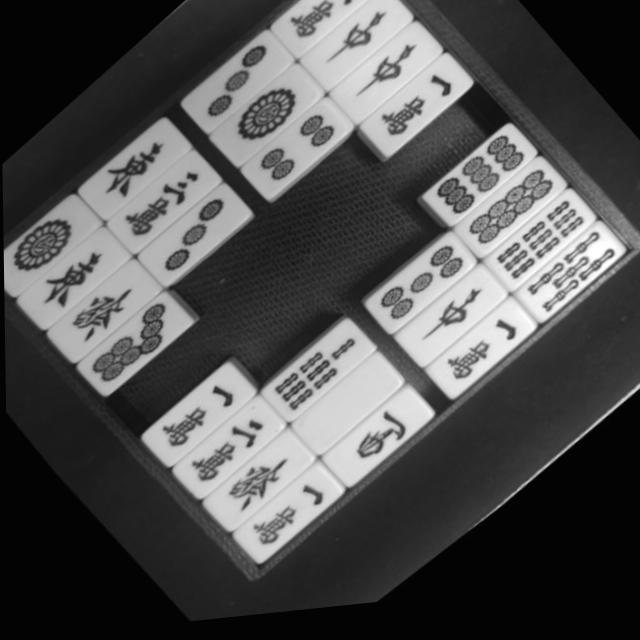hdg: (205, 435, 322, 551), (49, 265, 163, 378)
hdr: (398, 275, 508, 384), (300, 0, 413, 106), (335, 31, 442, 137)
hwe: (19, 231, 135, 346), (80, 123, 194, 236), (110, 157, 223, 269)
hww: (322, 393, 438, 508)
sb5: (516, 230, 628, 341)
sb7: (265, 326, 379, 440), (293, 361, 407, 474)
sb9: (486, 198, 600, 310)
sc1: (144, 369, 260, 485), (360, 61, 475, 175), (426, 306, 541, 420), (238, 472, 347, 580)
sc2: (175, 404, 289, 517), (269, 0, 382, 73)
sd1: (211, 69, 326, 183), (2, 196, 106, 312)
sd3: (183, 37, 296, 149), (141, 189, 254, 301)
sd4: (242, 103, 355, 215)
sd5: (366, 241, 479, 353)
sd7: (78, 296, 199, 416)
sd8: (454, 163, 569, 277)
sd9: (426, 132, 538, 243)
